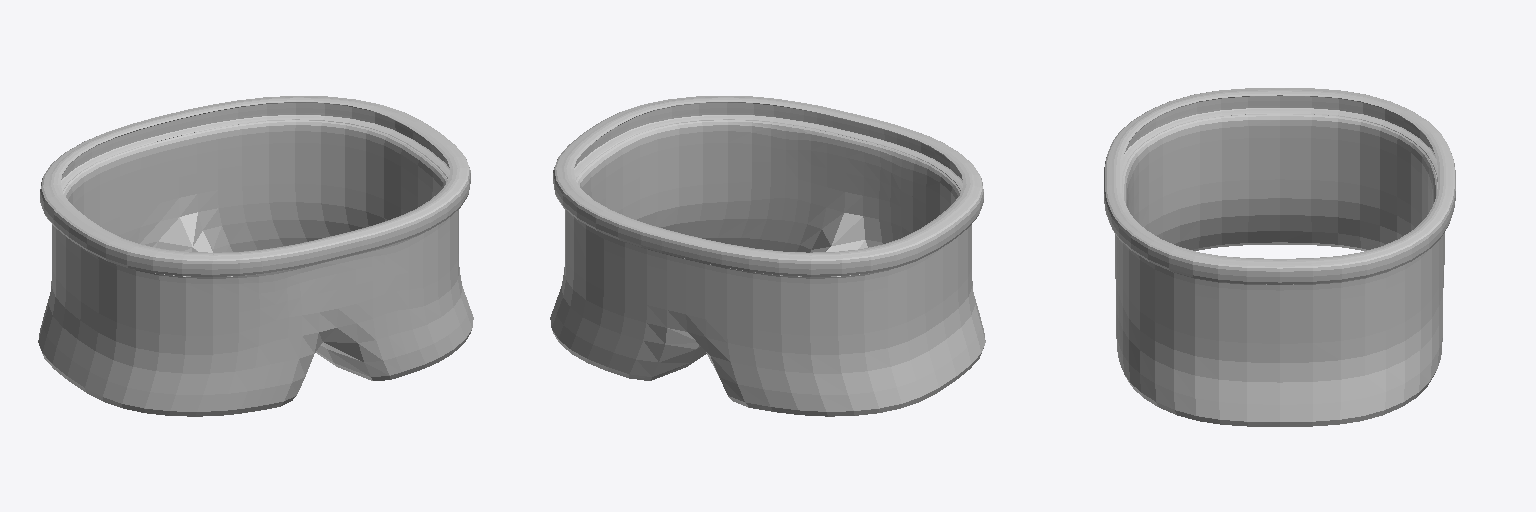
Rendered from PantalonesLargos.obj.
The picture shows the model from 3 angles: view 1: azimuth 30°, elevation 25°; view 2: azimuth 150°, elevation 25°; view 3: azimuth 270°, elevation 25°; orthographic projection.
Visible parts, largest first — view 1: Pantalones; view 2: Pantalones; view 3: Pantalones.
Part boxes in pixels (x1,y1,x2,y2): Pantalones: (38,96,473,416); Pantalones: (550,96,985,416); Pantalones: (1104,88,1455,426).
Size of the model in its own units: 22.99 by 9.3 by 18.6.